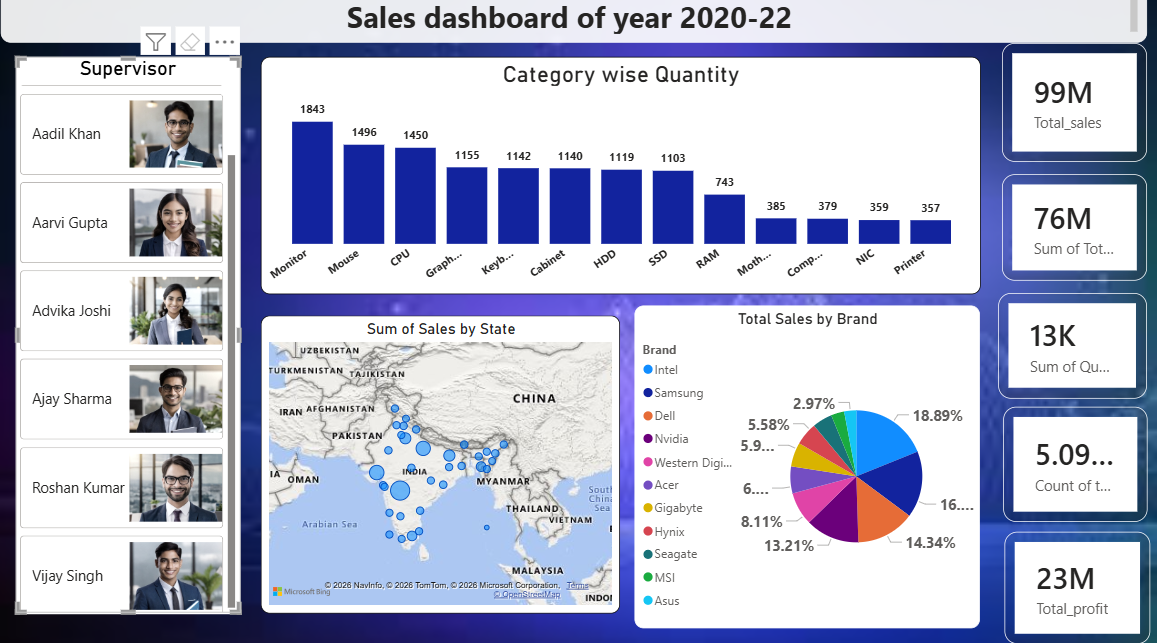

This screenshot's page, from the dashboard's own definition file:
{"tool":"powerbi","page":{"name":"Page 1","canvas":[1280,720],"ordinal":0},"visuals":[{"type":"textbox","box":[9.7,0,1258.3,60.3],"z":0},{"type":"cardVisual","fields":{"Data":["Sum(Sales_Data.Total_Sales)"]},"box":[1108.7,60.3,159.3,130.3],"z":1000},{"type":"cardVisual","fields":{"Data":["Sum(Sales_Data.Total_Cost)"]},"box":[1108.7,205.1,159.3,117],"z":2000},{"type":"cardVisual","fields":{"Data":["Sum(Sales_Data.Quantity)"]},"box":[1105.1,335.4,162.9,115.8],"z":3000},{"type":"cardVisual","fields":{"Data":["CountNonNull(Sales_Data.Order_Number)"]},"box":[1110,460,158.8,126.2],"z":4000},{"type":"cardVisual","fields":{"Data":["Sales_Data.Total_profit"]},"box":[1111.7,596.7,160,123.3],"z":5000},{"type":"clusteredColumnChart","title":"Category wise Quantity","fields":{"Y":["Sum(Sales_Data.Quantity)"],"Category":["Sales_Data.Category"]},"box":[294.4,74.8,790.2,260.6],"z":6000},{"type":"pieChart","title":"Total Sales by Brand","fields":{"Y":["Sum(Sales_Data.Total_Sales)"],"Category":["Sales_Data.Brand"]},"box":[705.8,348.7,378.8,354.7],"z":7000},{"type":"map","fields":{"Category":["State_list.State"],"Size":["Sum(Sales_Data.Sales)"]},"box":[294.4,359.5,394.5,326.9],"z":8000},{"type":"advancedSlicerVisual","title":" Supervisor","fields":{"Values":["Supervisor.Supervisor"]},"box":[26.5,74.8,246.1,611.7],"z":9000}]}

Visuals, with their boxes in screenshot pixels (x1, y1, x2, y2), scaled from the page's 1280x720 canvas onto the 1157x643 screenshot:
textbox: [9,0,1146,54]
cardVisual - Sum(Sales_Data.Total_Sales): [1002,54,1146,170]
cardVisual - Sum(Sales_Data.Total_Cost): [1002,183,1146,288]
cardVisual - Sum(Sales_Data.Quantity): [999,300,1146,403]
cardVisual - CountNonNull(Sales_Data.Order_Number): [1003,411,1147,524]
cardVisual - Sales_Data.Total_profit: [1005,533,1149,642]
"Category wise Quantity" clusteredColumnChart: [266,67,980,300]
"Total Sales by Brand" pieChart: [638,311,980,628]
map - State_list.State x Sum(Sales_Data.Sales): [266,321,623,613]
" Supervisor" advancedSlicerVisual: [24,67,246,613]
